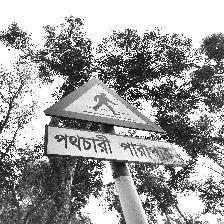Pedestrian-crossing: (43, 77, 184, 166)
